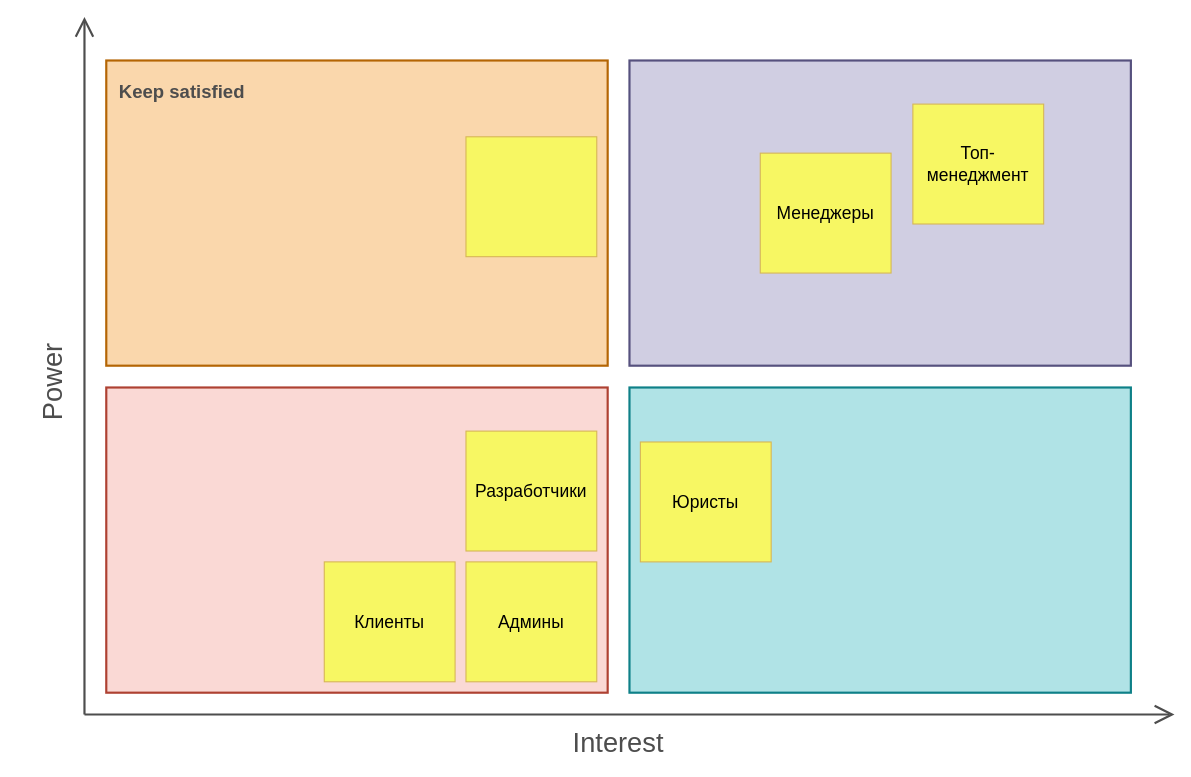
This 1191x777 diagram has some shape labels left out. Here are the shapes that lost their labels. From the top down, the box of each, then its label:
(465, 136, 597, 257): Фин. отдел
(628, 59, 1131, 366): Manage closely
(105, 386, 608, 693): Monitor (minimum effort)
(628, 386, 1131, 693): Keep informed
